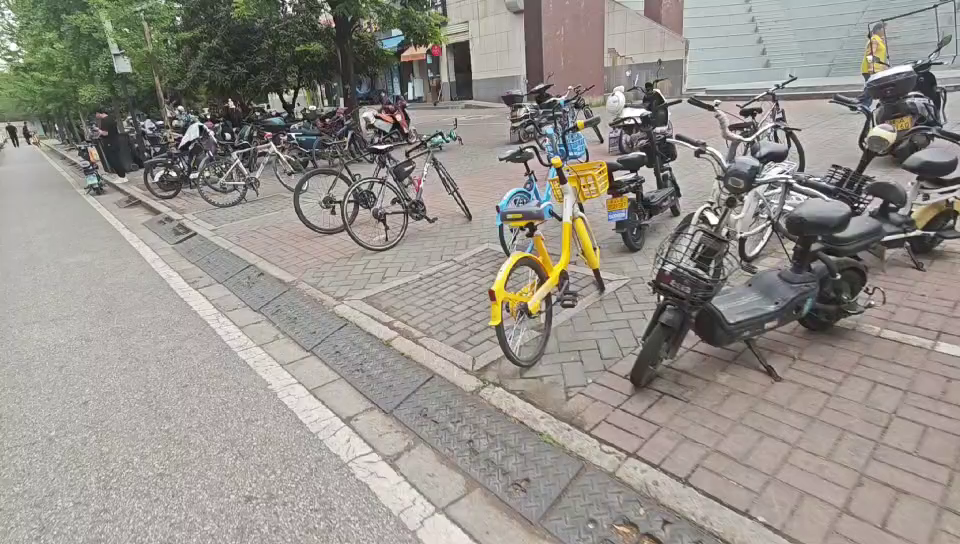others: (637, 120, 872, 384), (345, 117, 471, 245), (285, 131, 424, 232), (604, 71, 683, 238), (199, 116, 309, 210), (145, 137, 249, 199)
shared_bike_haluo: (491, 91, 596, 245)
shared_bike_meituan: (491, 127, 613, 376)
